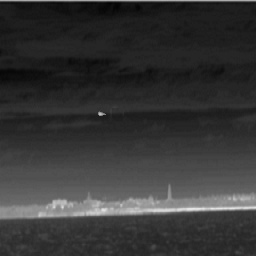Target: (97, 111, 107, 116)
